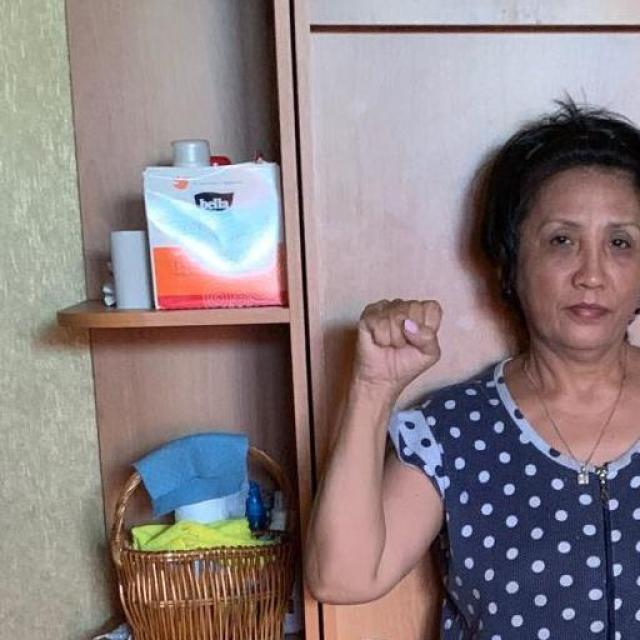hand: (352, 296, 442, 390)
